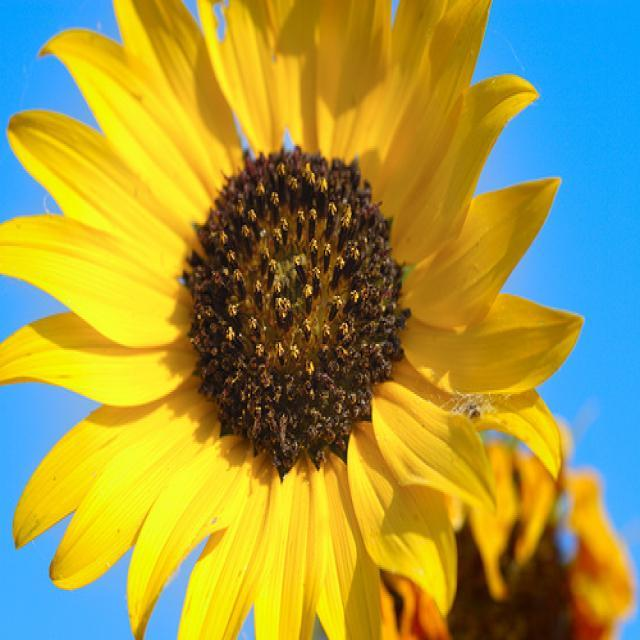sunflower: (1, 3, 579, 636), (386, 438, 636, 640)
